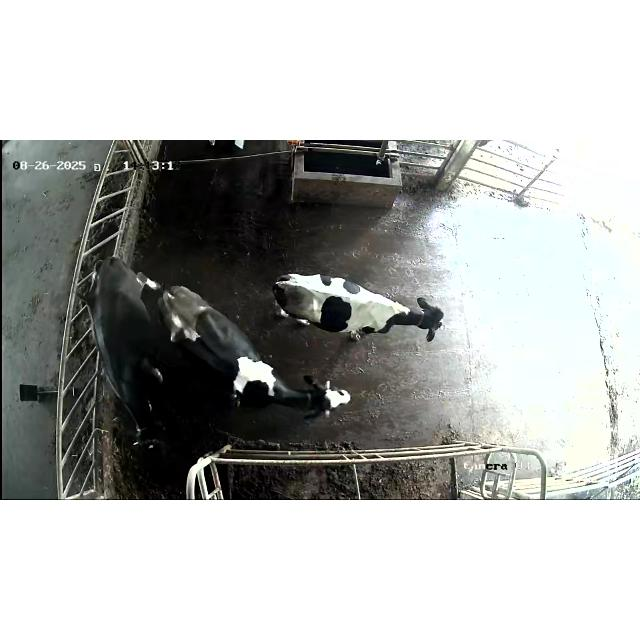stand: (154, 281, 362, 423), (80, 255, 180, 458), (267, 260, 465, 358)
